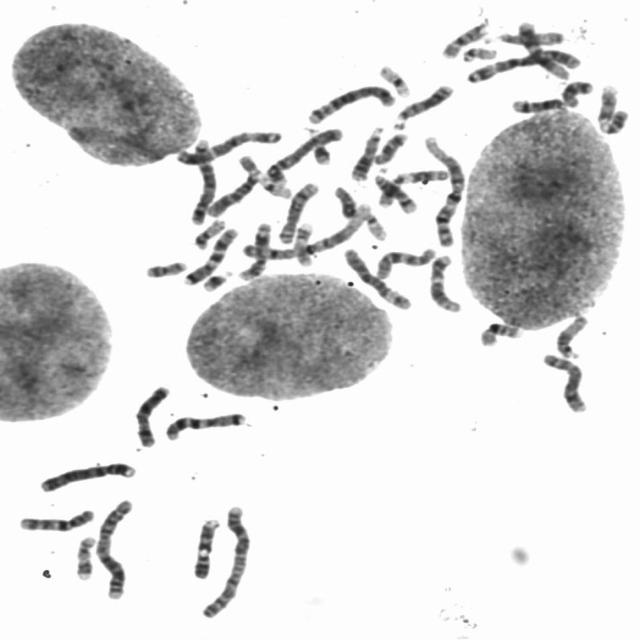A1: (235, 200, 370, 260), (418, 130, 467, 248)
A2: (195, 499, 254, 620), (90, 492, 136, 601)
A3: (462, 43, 582, 84), (170, 124, 285, 166)
B4: (259, 121, 345, 186), (34, 456, 139, 494)
B5: (302, 78, 398, 125), (183, 134, 218, 226)
C10: (369, 242, 439, 280), (13, 503, 97, 533)
C11: (372, 164, 451, 208), (233, 216, 275, 282)
C12: (513, 15, 574, 80), (424, 248, 466, 314)
C6: (338, 242, 415, 311), (204, 154, 262, 219)
C7: (177, 222, 240, 288), (158, 406, 248, 442)
C8: (537, 347, 591, 414), (272, 176, 322, 245)
C9: (187, 512, 223, 580), (591, 78, 631, 134)
D13: (388, 78, 455, 128), (345, 120, 386, 182)
D14: (367, 167, 421, 214), (506, 92, 568, 114)
D15: (550, 309, 591, 360), (493, 25, 566, 46)
E16: (436, 16, 492, 60), (474, 317, 524, 347)
E17: (70, 530, 98, 582), (290, 218, 316, 268)
E18: (556, 74, 596, 108), (372, 131, 409, 167)
F19: (373, 59, 413, 99), (254, 172, 294, 200)
F20: (188, 213, 229, 250), (140, 255, 190, 279)
G21: (196, 265, 233, 292), (306, 137, 334, 166)
G22: (354, 198, 390, 242), (456, 41, 499, 62)
X: (128, 380, 172, 449)
Y: (330, 183, 360, 219)
